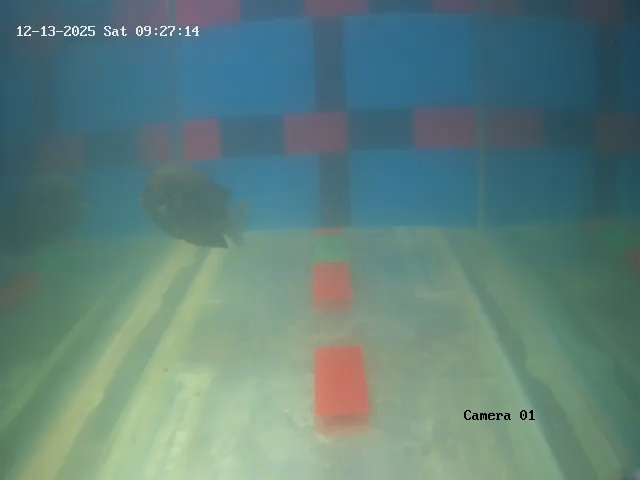fish: (140, 166, 255, 252)
